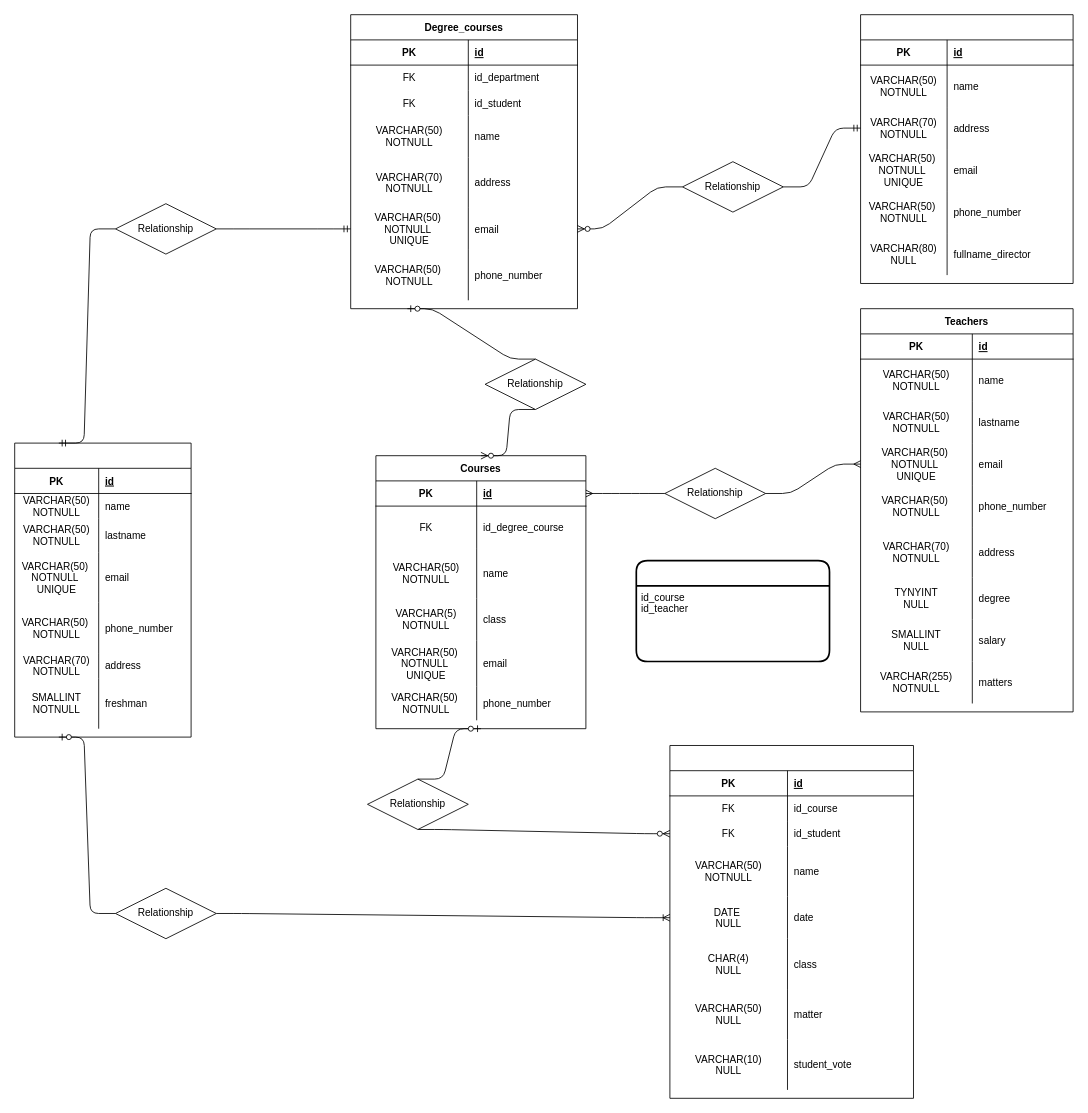
This 1088x1113 diagram has some shape labels left out. Each missing label, with the box of its shape:
COURSES_TEACHERS: (635, 559, 830, 662)
Departments: (860, 14, 1073, 284)
Exam_sessions: (669, 745, 914, 1098)
Students: (14, 442, 191, 737)
